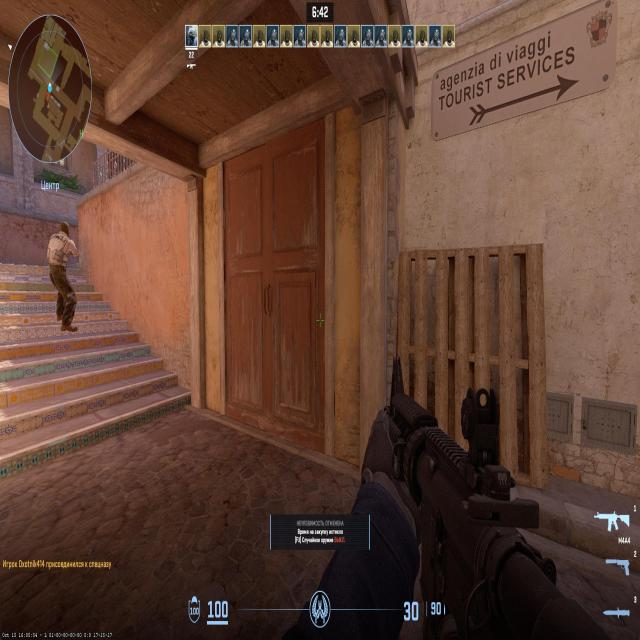T: (56, 224, 72, 308)
T_heat: (62, 228, 66, 240)
